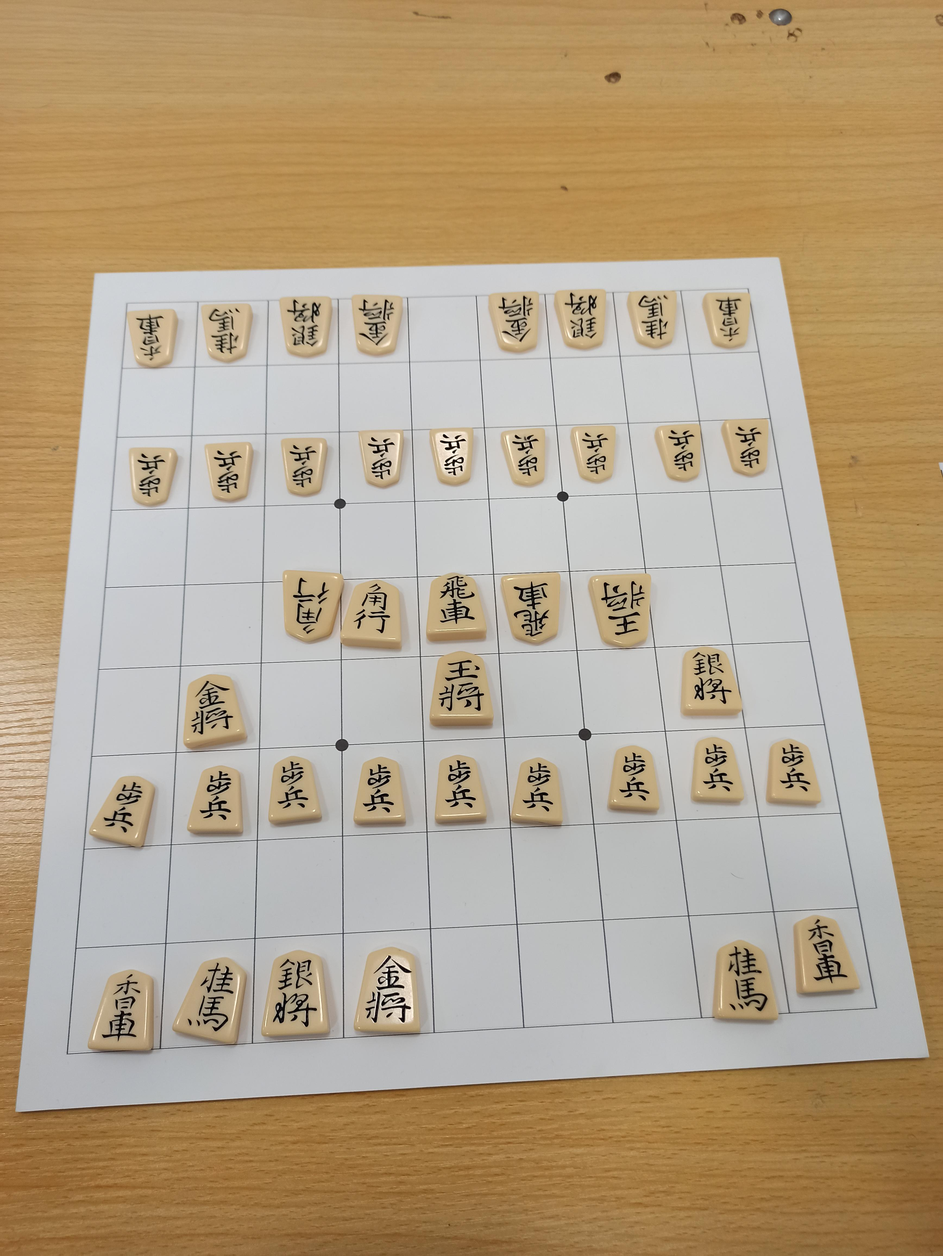board: (67, 290, 878, 1053)
